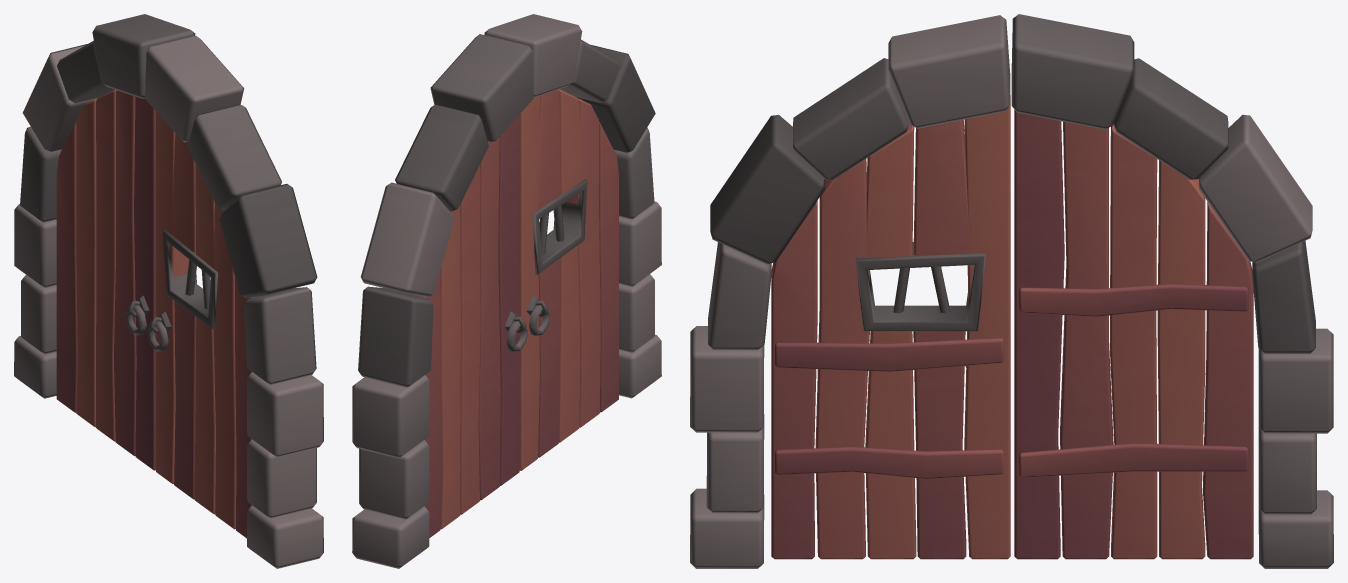
File: Gate_03_L.glb
The picture shows the model from 3 angles, left to right: view 1: azimuth 30°, elevation 25°; view 2: azimuth 150°, elevation 25°; view 3: azimuth 270°, elevation 25°; orthographic projection. The views are drawn at different scales.
Visible parts, largest first — view 1: Gate.03.L; view 2: Gate.03.L; view 3: Gate.03.L.
Part boxes in pixels (left/top/right/bottom): Gate.03.L: left=14, top=14, right=323, bottom=568; Gate.03.L: left=352, top=14, right=661, bottom=568; Gate.03.L: left=690, top=14, right=1333, bottom=568.
Size of the model in its own units: 0.4408 by 3.05 by 3.37.
1 material, 1 textured.
